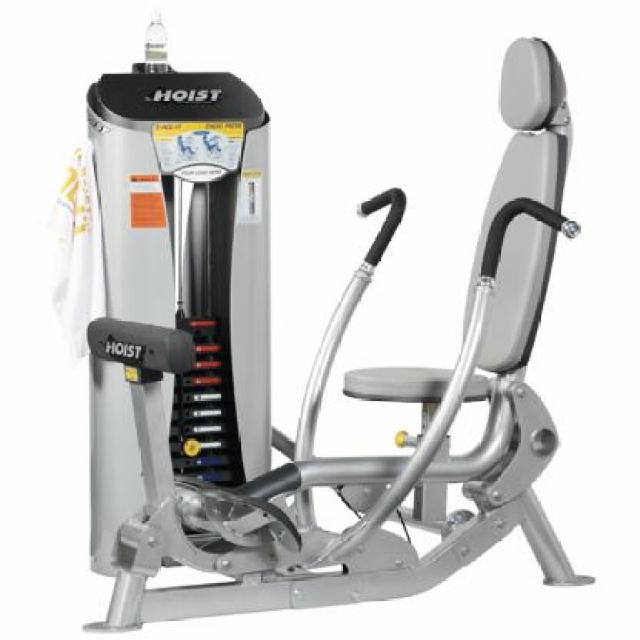Chest Press machine: (69, 29, 600, 634)
